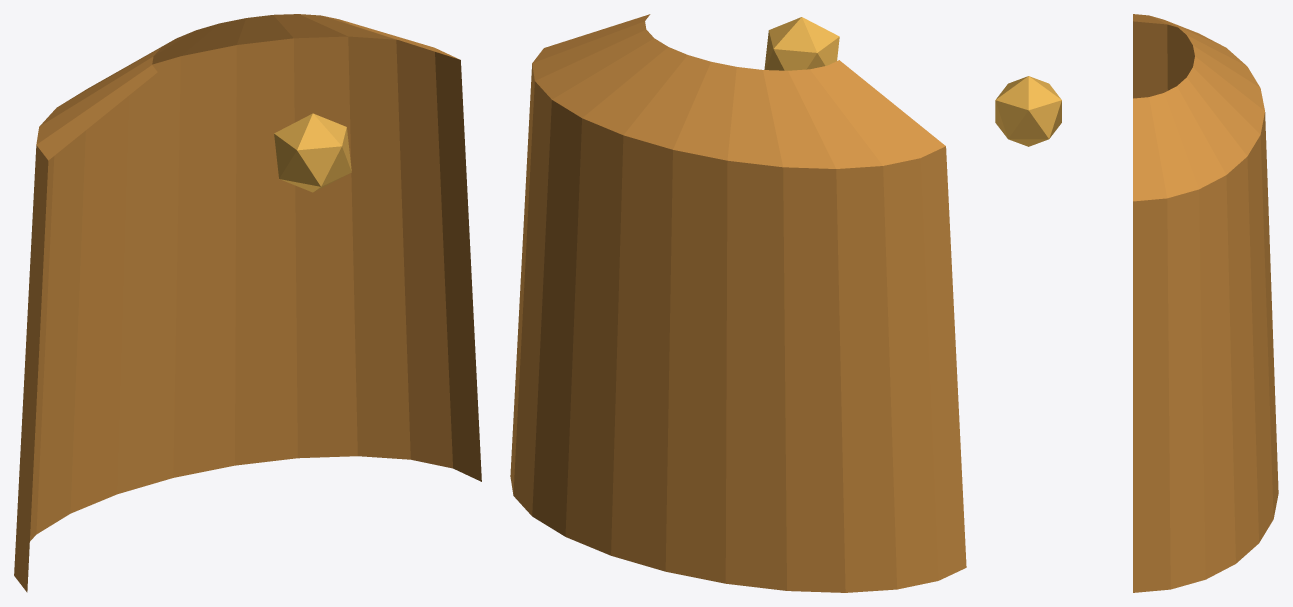
Rendered from sun-mantle-1.glb.
3 renders of one model, left to right at view 1: azimuth 30°, elevation 25°; view 2: azimuth 150°, elevation 25°; view 3: azimuth 270°, elevation 25°, orthographic. The views are drawn at different scales.
Visible parts, largest first — view 1: Sunwoven shoulder mantle, Icosphere; view 2: Sunwoven shoulder mantle, Icosphere; view 3: Sunwoven shoulder mantle, Icosphere.
Boxes of the visible parts, x1,y1,x2,y2 form: Sunwoven shoulder mantle: (14,14,481,592); Icosphere: (274,113,351,192); Sunwoven shoulder mantle: (510,14,966,592); Icosphere: (764,17,839,70); Sunwoven shoulder mantle: (1133,14,1278,592); Icosphere: (995,76,1061,146).
Bounding box in the file's own units: 1.08 × 1.11 × 0.6514.
